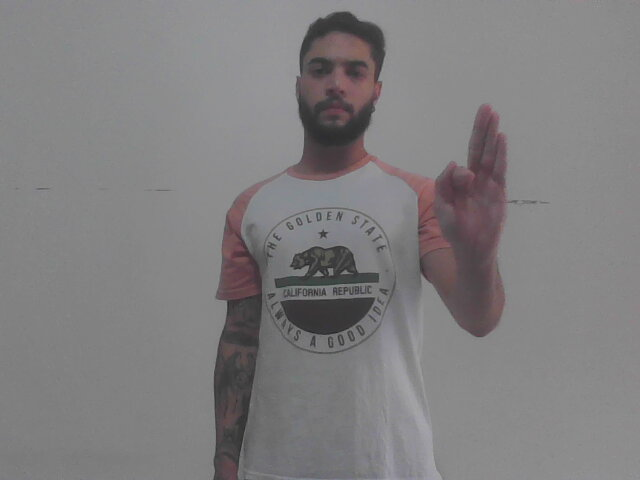f: (427, 97, 513, 256)
